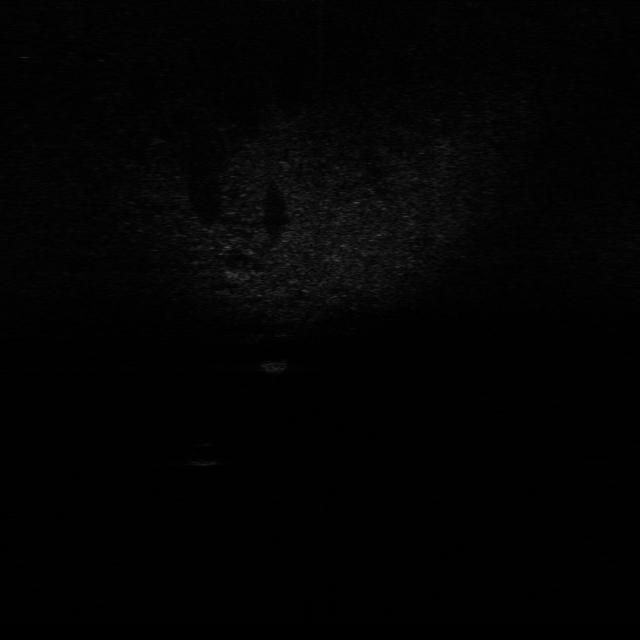ball: (188, 440, 223, 468)
cube: (260, 353, 290, 377)
